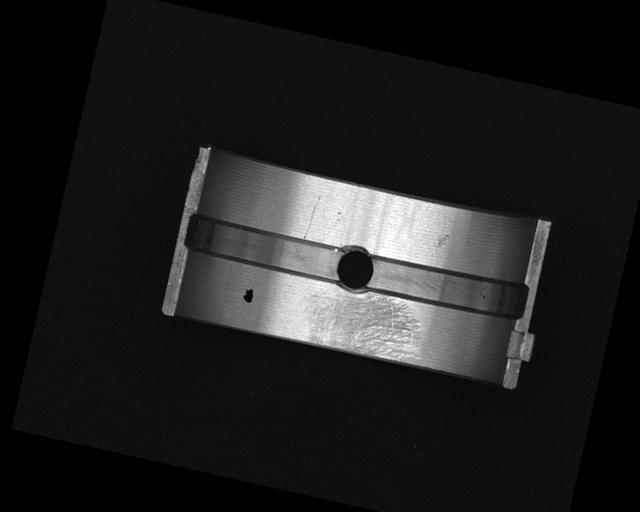blot: (240, 285, 256, 304)
bruise: (435, 231, 452, 249)
gap: (362, 251, 531, 325), (182, 212, 346, 286)
hole: (330, 239, 378, 298)
nick: (303, 202, 318, 241)
scratch: (297, 279, 430, 366)
